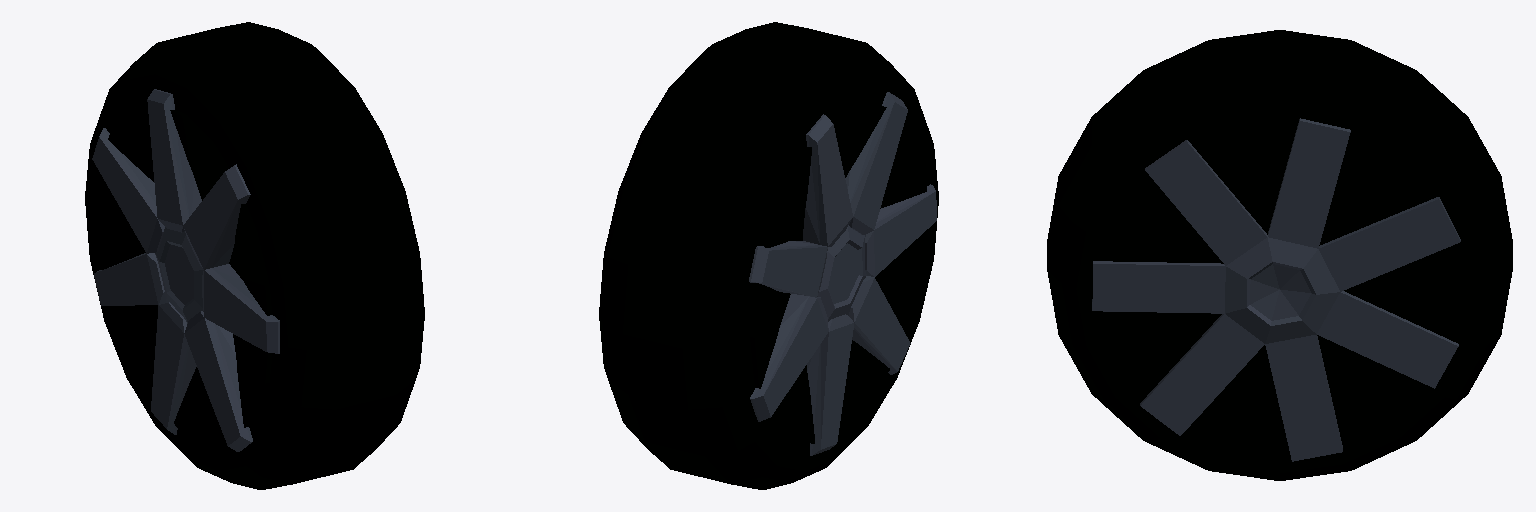
The picture shows the model from 3 angles: view 1: azimuth 30°, elevation 25°; view 2: azimuth 150°, elevation 25°; view 3: azimuth 270°, elevation 25°; orthographic projection.
Visible parts, largest first — view 1: Ruedas_Tesla_Cybertruck.001; view 2: Ruedas_Tesla_Cybertruck.001; view 3: Ruedas_Tesla_Cybertruck.001.
Part boxes in pixels (left/top/right/bottom): Ruedas_Tesla_Cybertruck.001: left=85, top=22, right=424, bottom=489; Ruedas_Tesla_Cybertruck.001: left=599, top=22, right=938, bottom=489; Ruedas_Tesla_Cybertruck.001: left=1047, top=30, right=1512, bottom=480.
Bounding box in the file's own units: 0.9643 × 2.46 × 2.46.
1 materials, 1 textured.